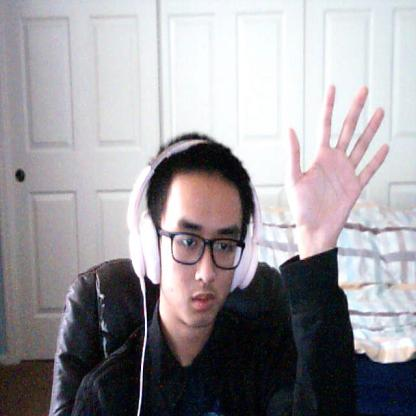palm: (286, 77, 392, 241)
